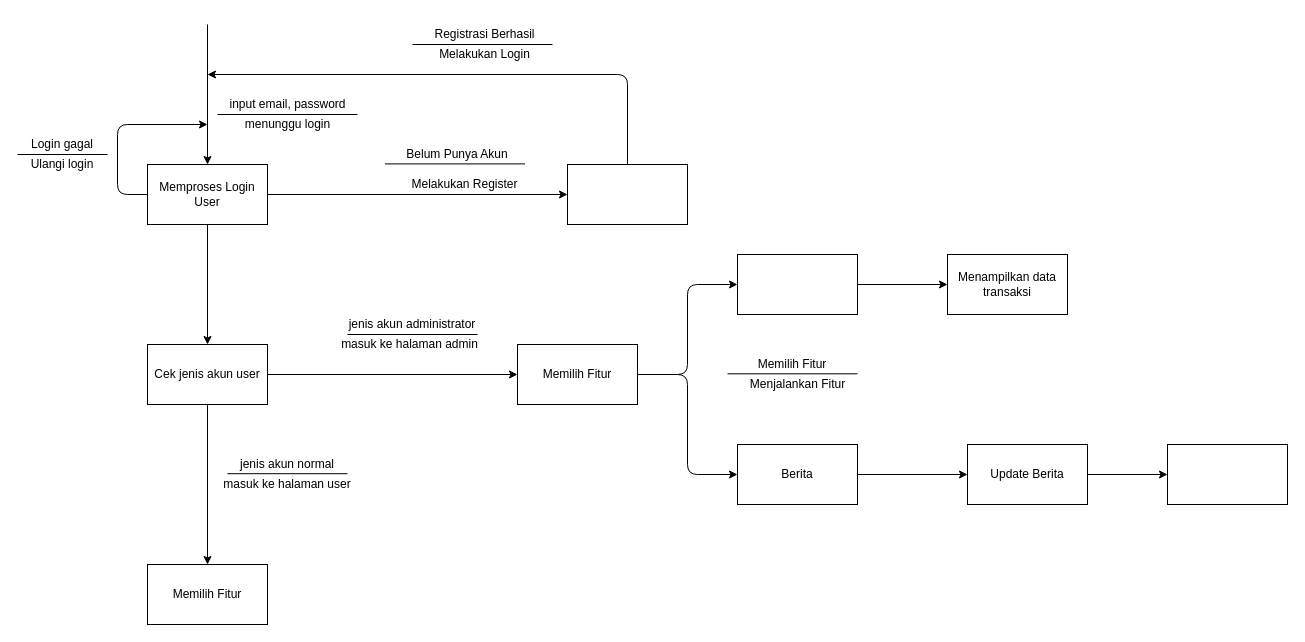
This 1305x642 diagram has some shape labels left out. Here are the shapes that lost their labels. From the top down, the centre of each, then its label:
(x=627, y=194): Memproses Register User
(x=797, y=284): Data Transaksi
(x=1227, y=474): Baca Berita
